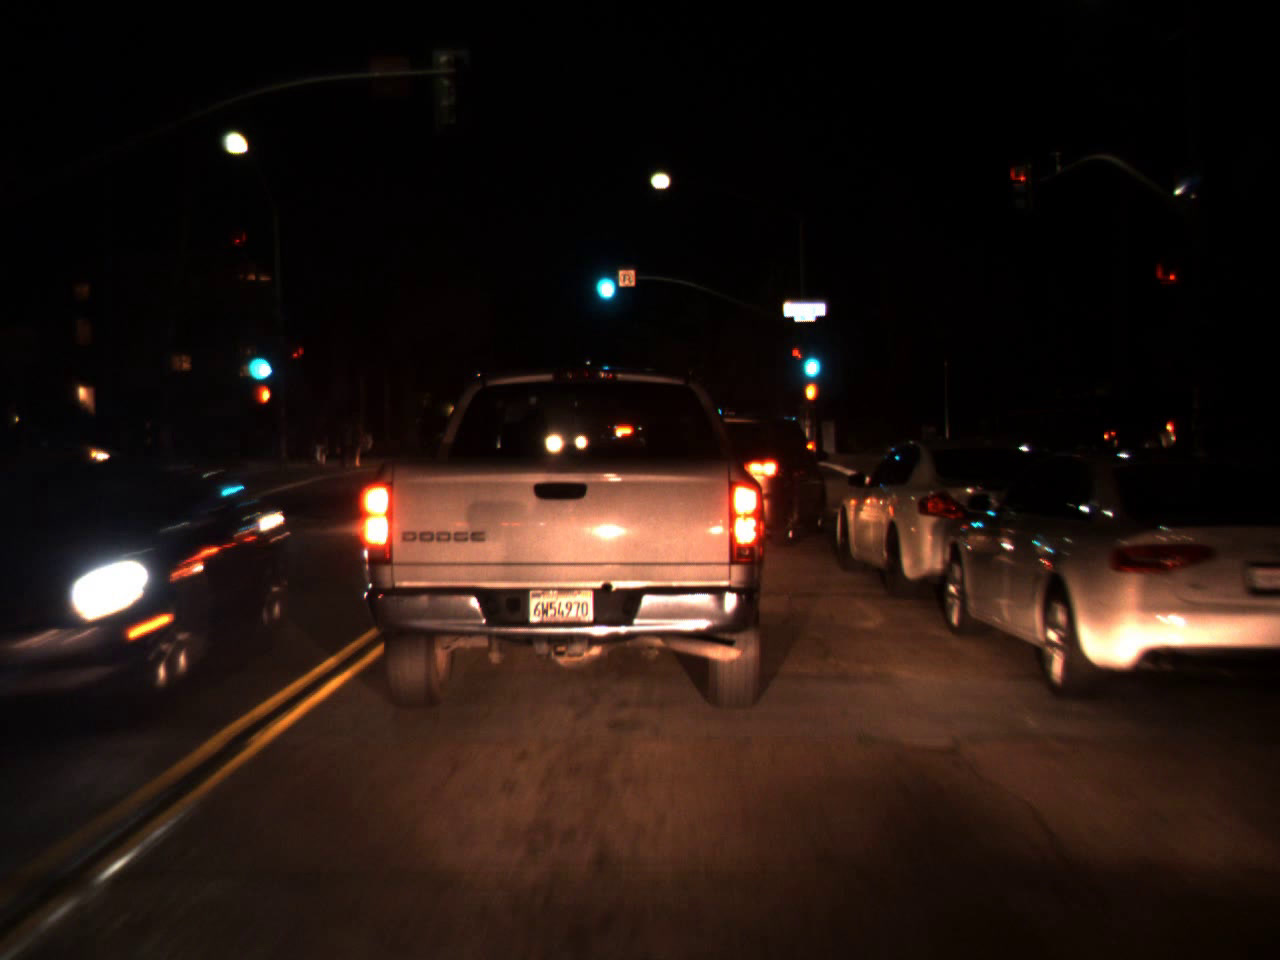go: (240, 329, 274, 389), (590, 250, 618, 307), (797, 333, 824, 384)
